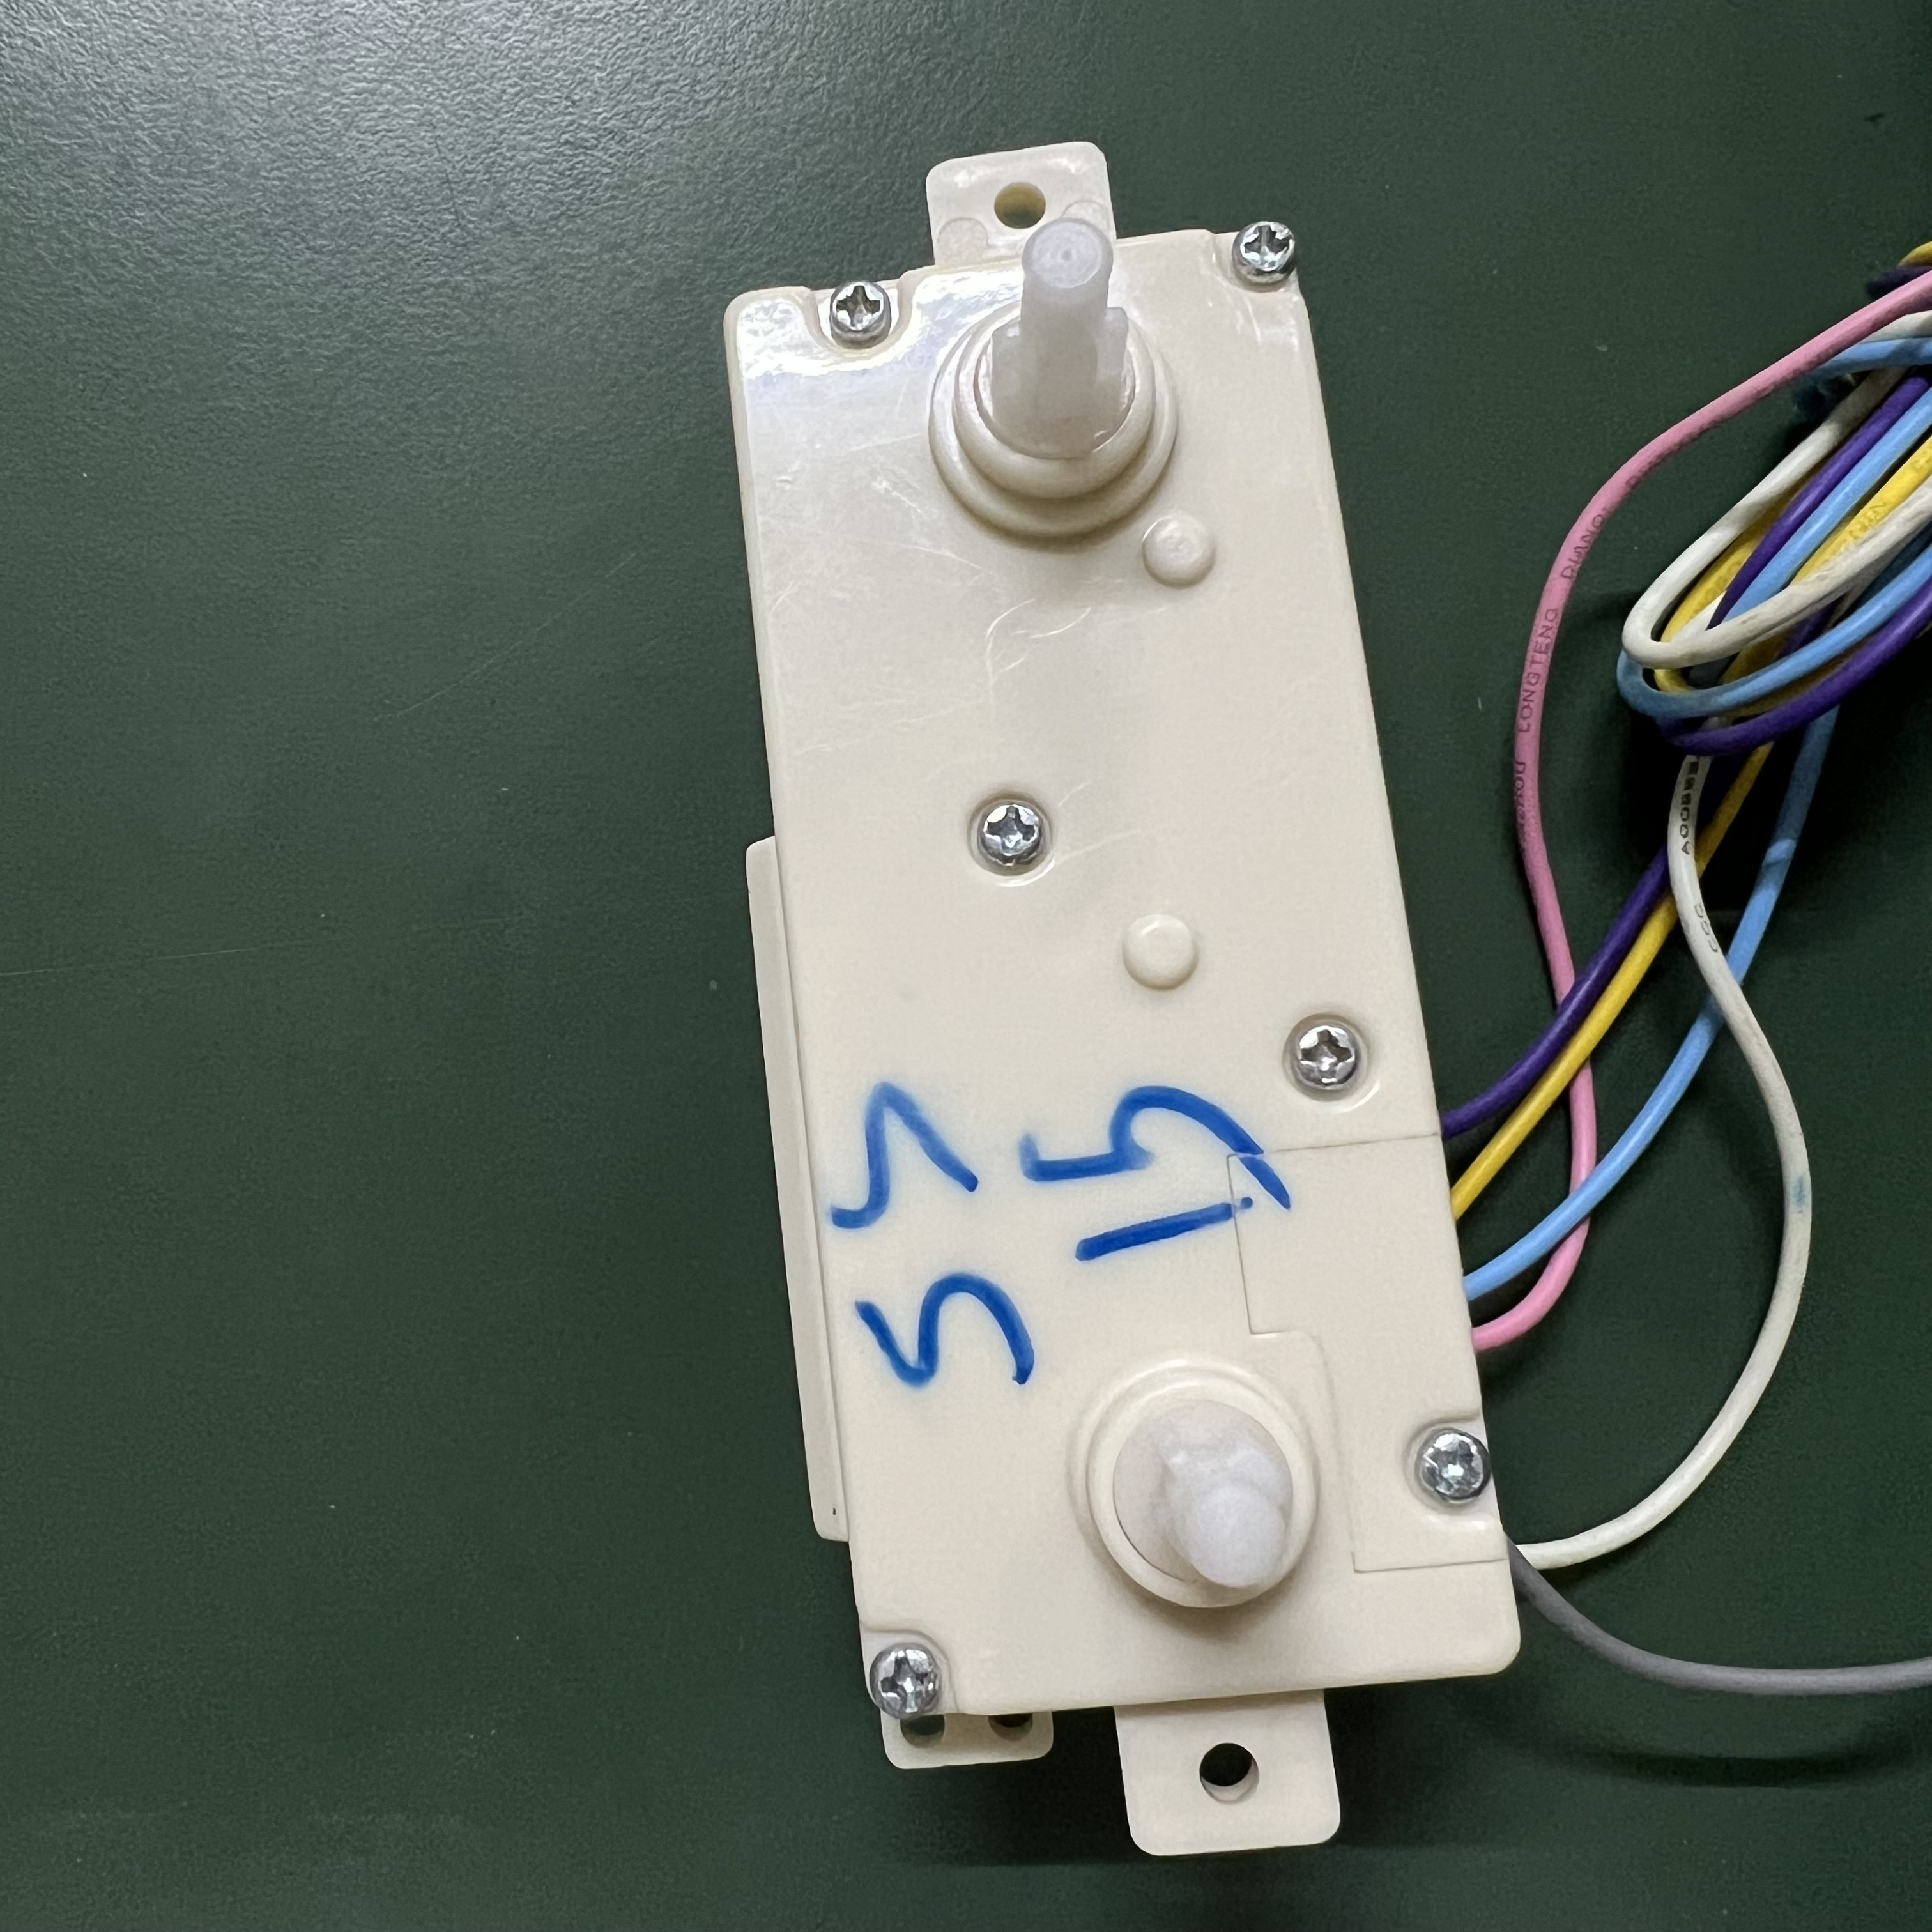rectangle_timer: (656, 92, 1520, 1893)
